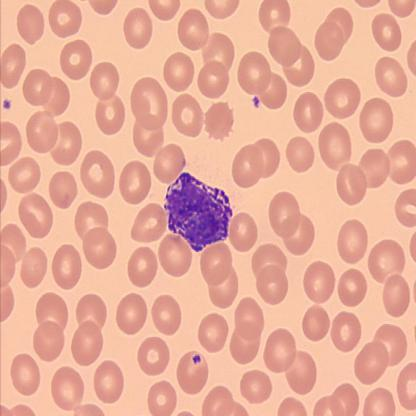Basophil: (162, 170, 234, 254)
